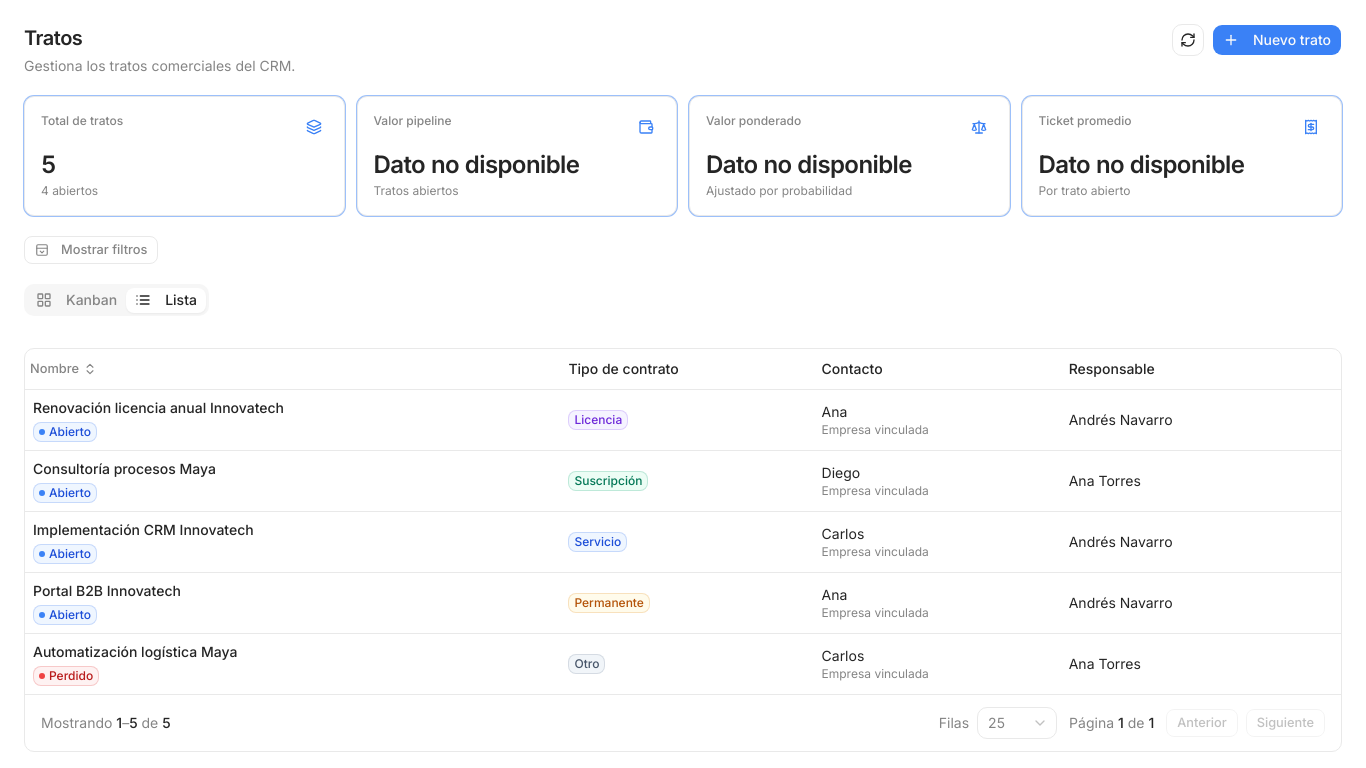
Test: TratosListPage — filtros avanzados y presets › filtro estado aplica client-side y actualiza el contador
This screenshot has width=1366, height=768.
Expected: the button "Implementación CRM Innovatech" is shown, [33,520,552,540]
Click the button "Mostrar filtros": [91, 250] box [24,236,158,264]
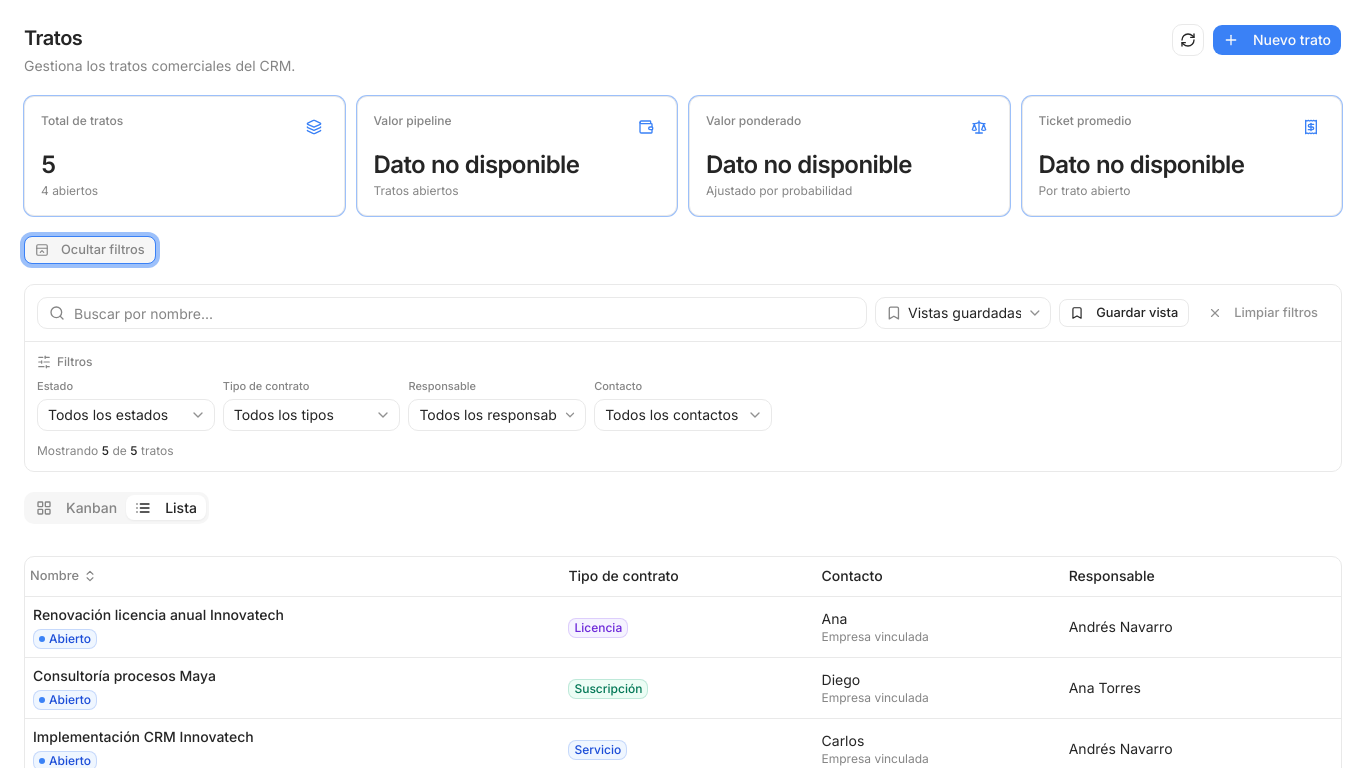
Expected: the button named "mostrar filtros" is expanded, [24,236,156,264]
Click the dropdown labelled "Todos los estados": [126, 414] box [37,398,215,430]
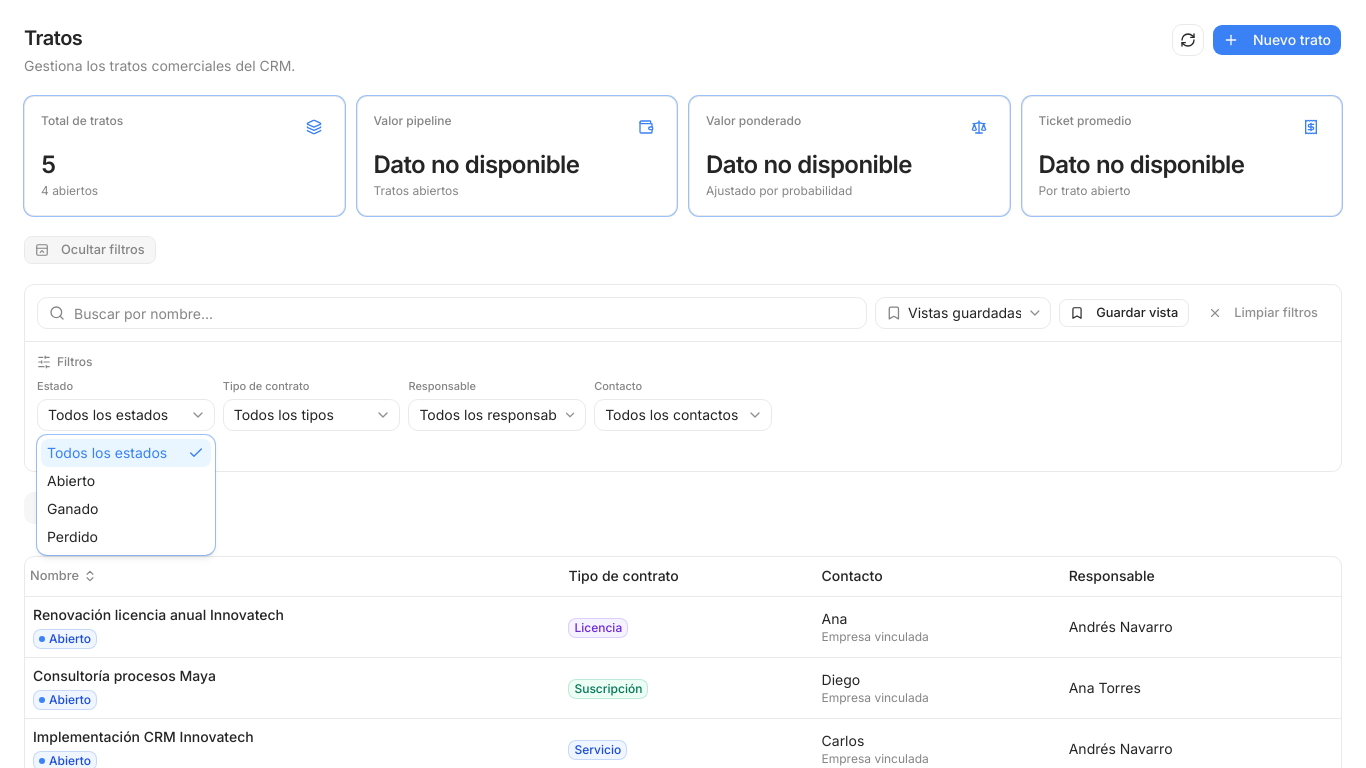
Click the option "Perdido": [72, 536] box [47,528,98,545]
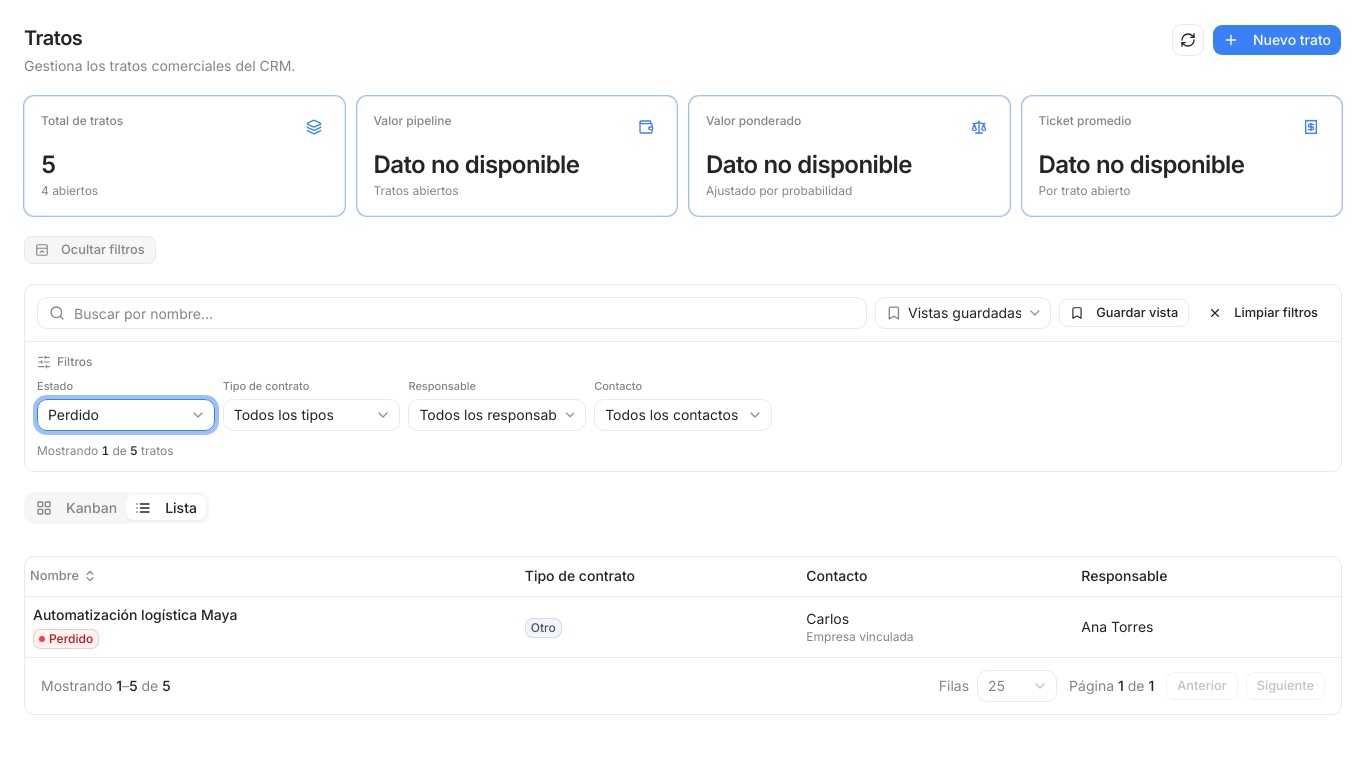
Expected: the button "Automatización logística Maya" is shown, [33,605,509,625]
Expected: the button "Implementación CRM Innovatech" is gone
